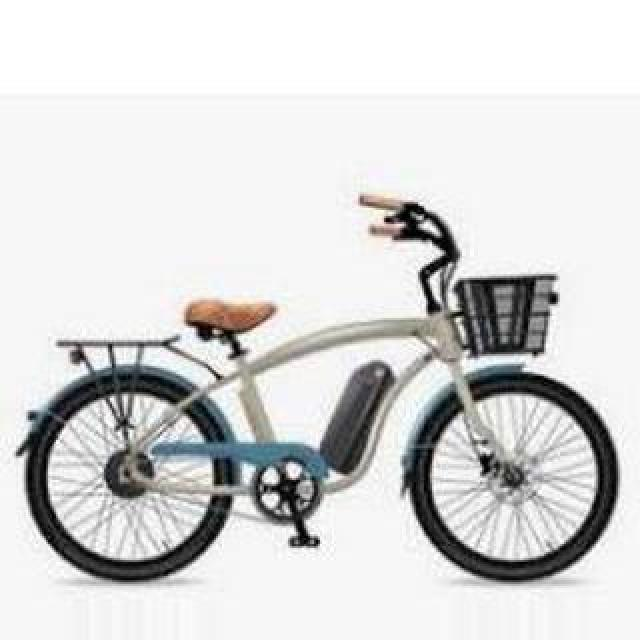Person: (12, 190, 622, 586)
